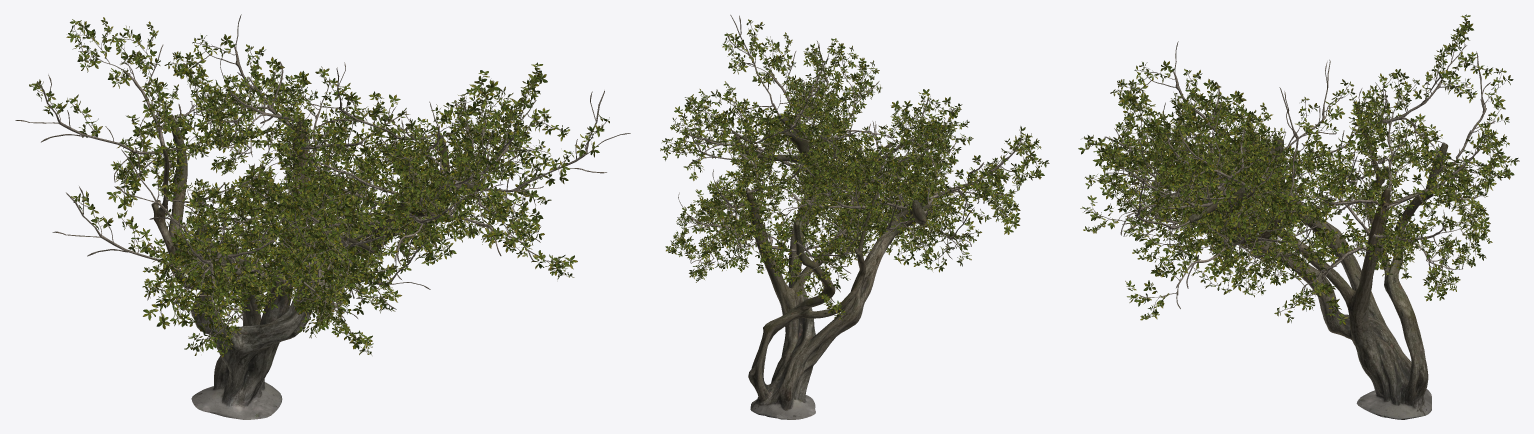
Rendered from broadleaf_tree.glb.
3 renders of one model, left to right at view 1: azimuth 30°, elevation 25°; view 2: azimuth 150°, elevation 25°; view 3: azimuth 270°, elevation 25°, orthographic. The views are drawn at different scales.
Parts seen in each view (by area): view 1: island_tree_02_LOD0; view 2: island_tree_02_LOD0; view 3: island_tree_02_LOD0.
Boxes of the visible parts, x1,y1,x2,y2 form: island_tree_02_LOD0: (15,14,630,419); island_tree_02_LOD0: (660,14,1049,419); island_tree_02_LOD0: (1078,14,1519,419).
Size of the model in its own units: 4.21 by 3.41 by 4.07.
Materials: 3 (3 with a texture image).
